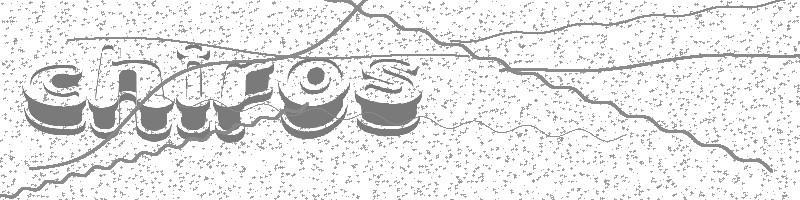c: (22, 63, 87, 136)
h: (88, 44, 174, 142)
i: (176, 43, 211, 141)
o: (278, 57, 350, 140)
r: (212, 59, 275, 144)
s: (353, 57, 422, 137)
